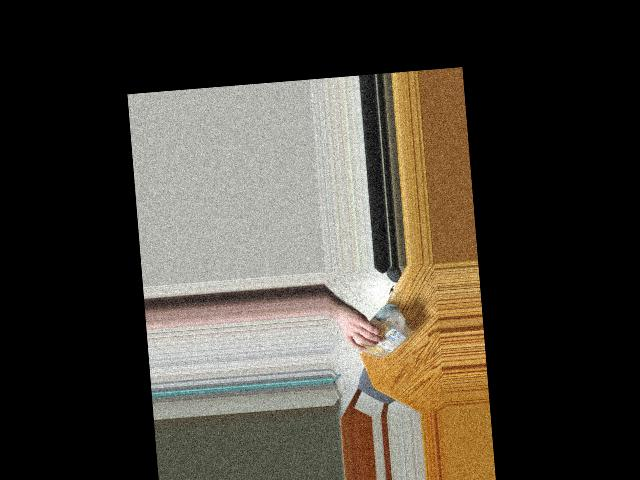cheese: (345, 304, 415, 362)
